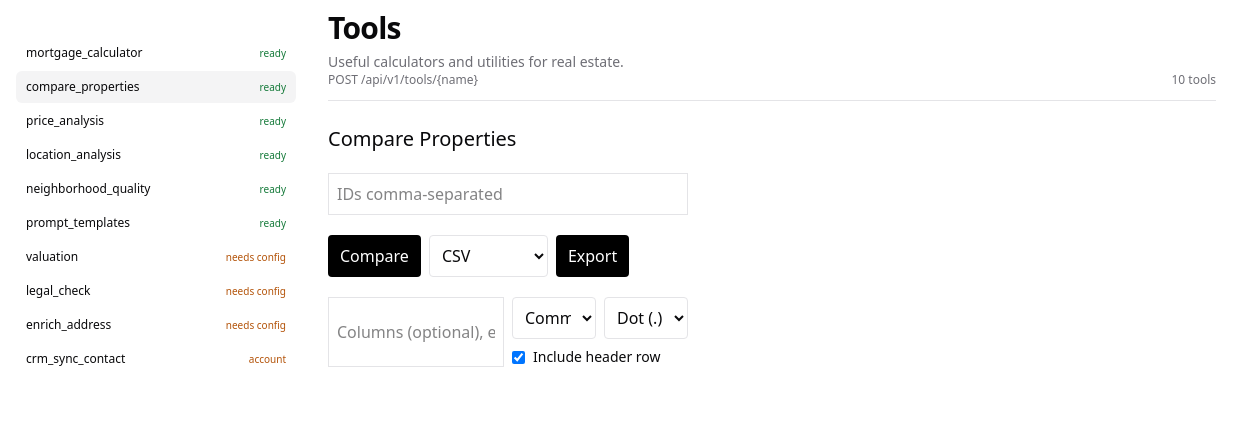
Test: ToolsPage › CompareSection › shows error when compare fails
Type "p1" into the field with placeholder "IDs comma-separated" at (508, 194), box [328,173,688,215]
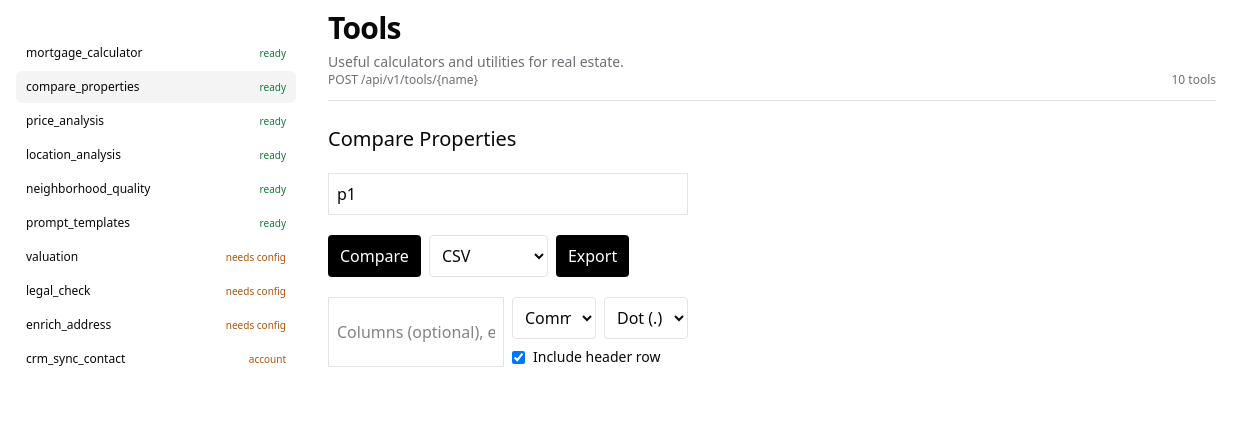
Click the button "Compare" at (374, 256), box [328,235,421,277]
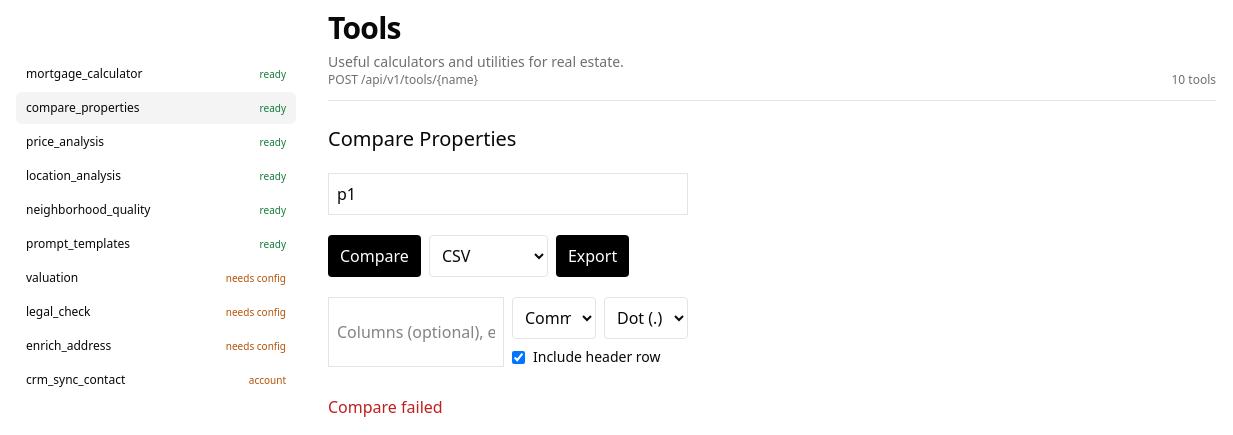
Now the text "Compare failed" is shown, box [328,396,443,418]
